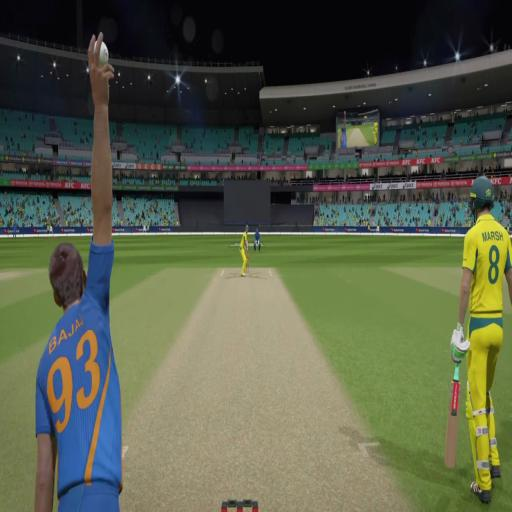ball: (99, 41, 108, 66), (94, 41, 97, 53)
